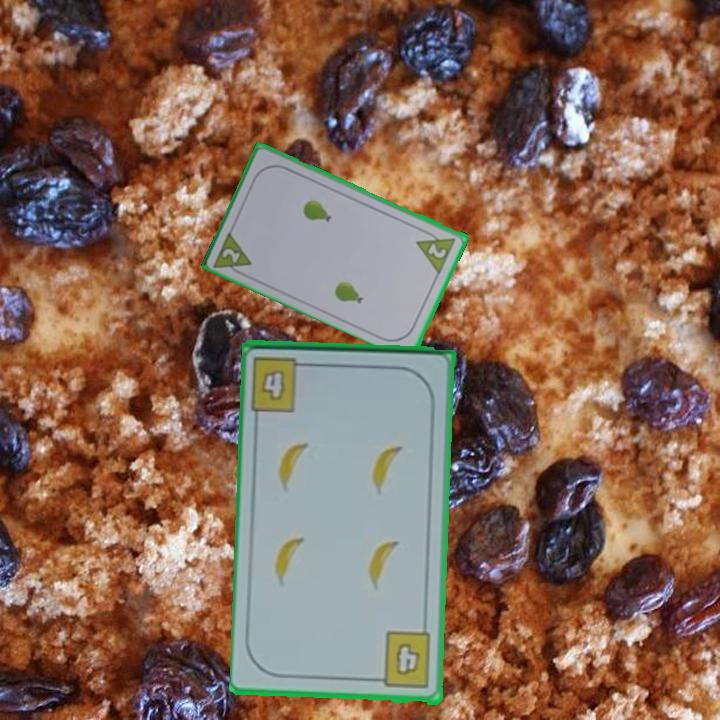2p: (210, 227, 255, 280), (424, 240, 450, 261)
4b: (248, 353, 315, 415), (370, 629, 434, 692)
